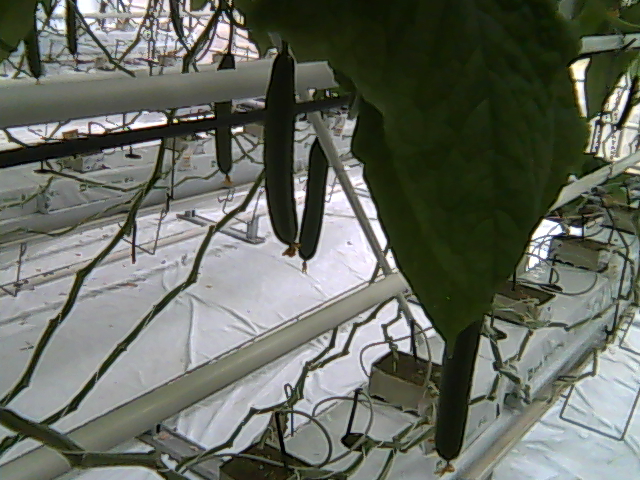concombre: (262, 36, 304, 262), (430, 318, 482, 476)
